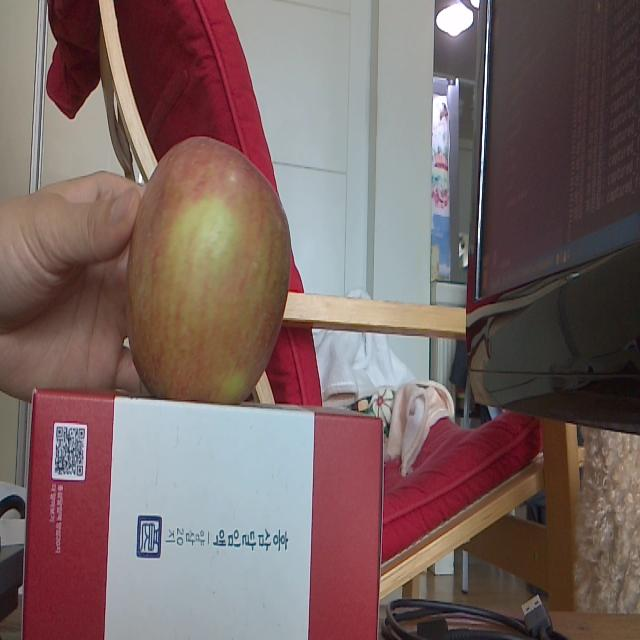apple: (122, 123, 298, 403)
